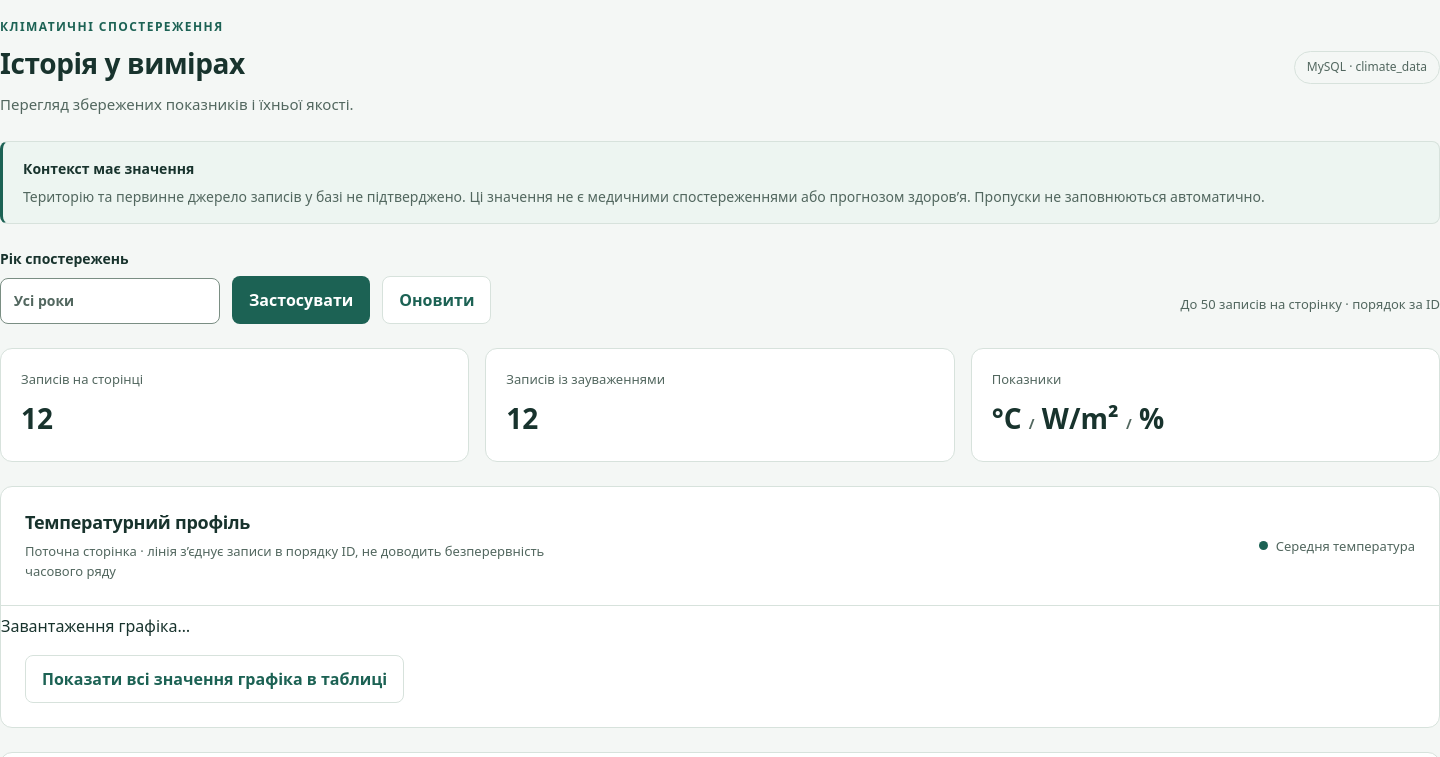
Test case: Historical observations › keeps the dashboard preview small while retaining the full history
The image size is (1440, 757).
Later steps or results of the test are not shown.
Click the button "Показати всі значення графіка в таблиці": click(215, 679) top-left (25, 655), bottom-right (404, 703)
(page scrolled)
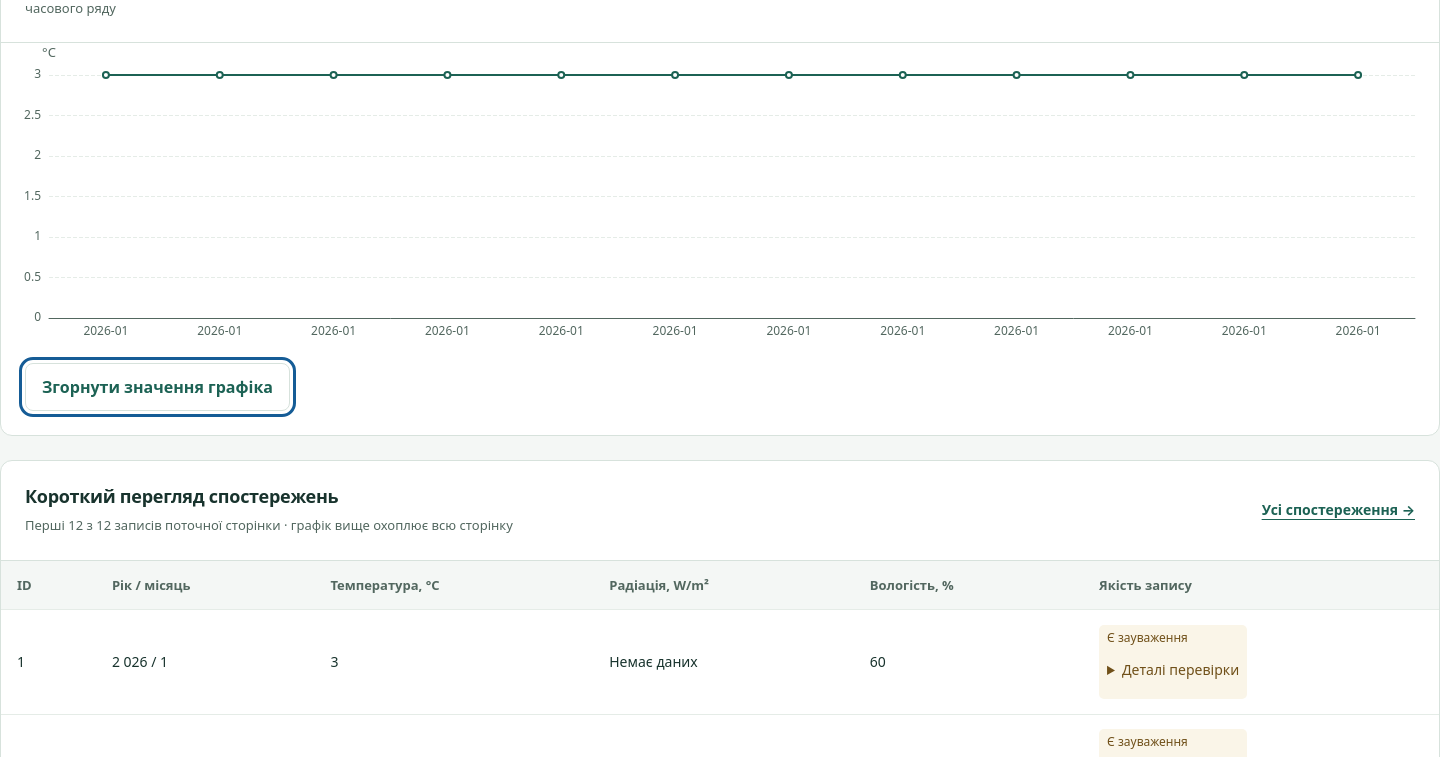
Check: the button named "Показати всі значення графіка в таблиці" is expanded
Check: the number of rows is 13
Click the button named "Показати всі значення графіка в таблиці": click(158, 387) top-left (25, 363), bottom-right (290, 411)
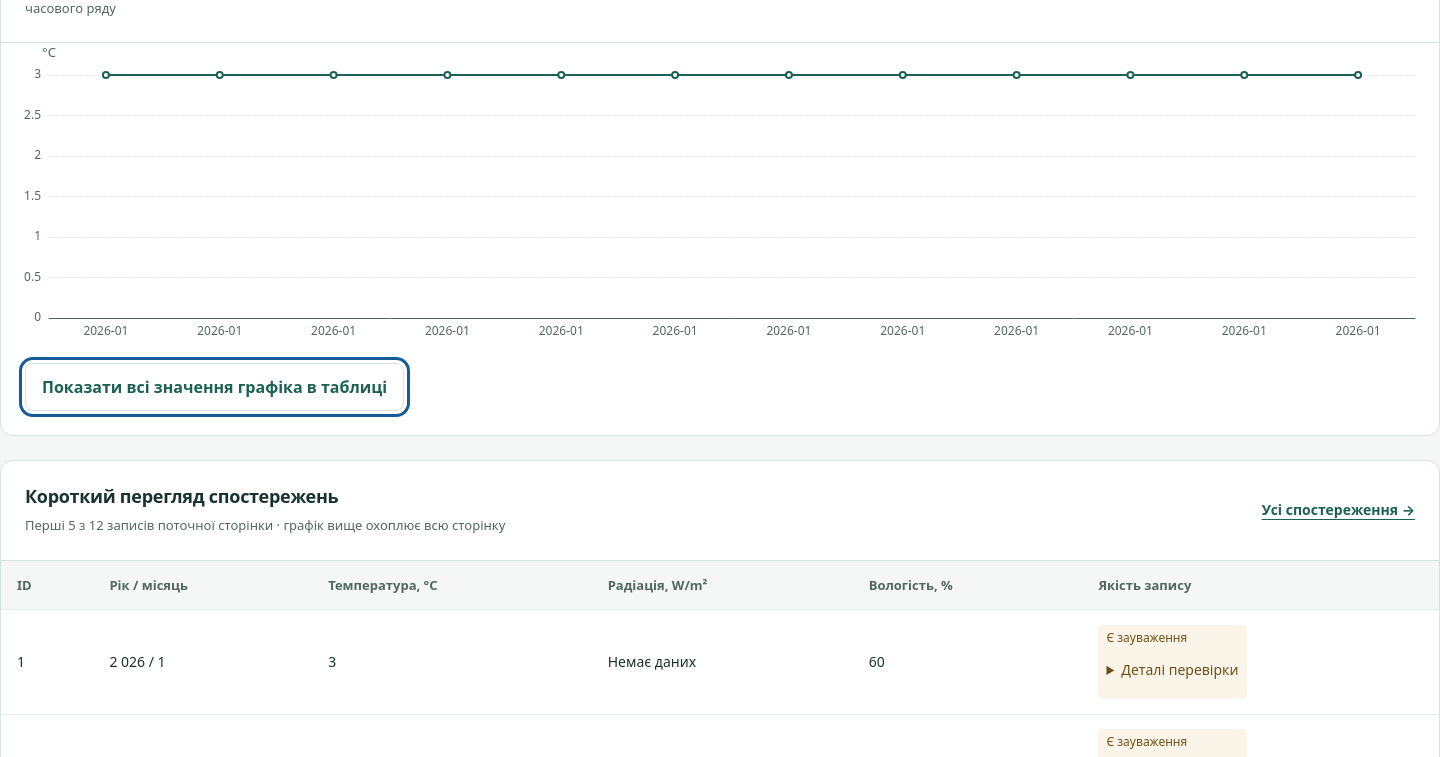
Check: the number of rows is 6
